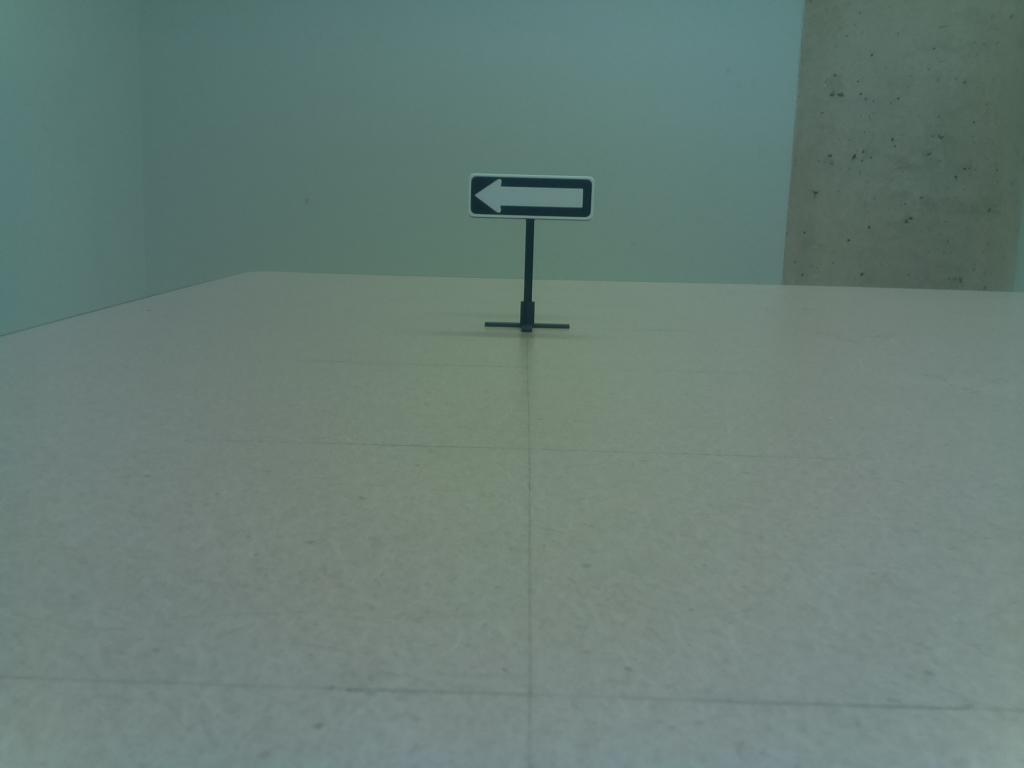sign_oneway_left: (461, 168, 601, 226)
